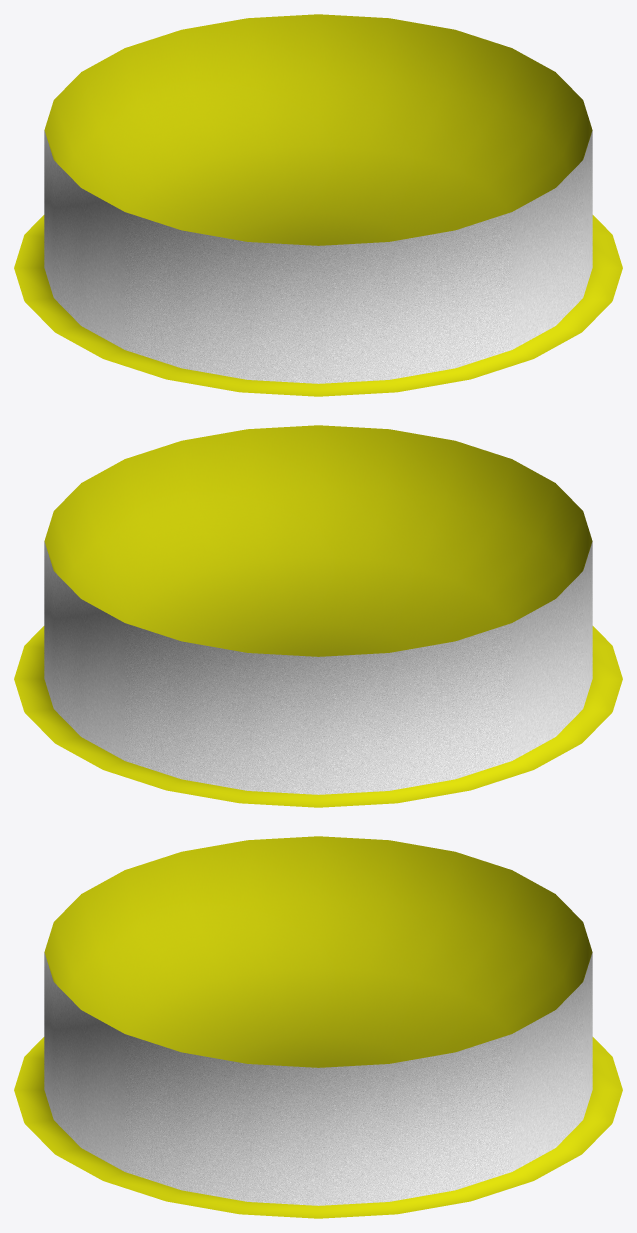
File: S1EndCap.obj
The picture shows the model from 3 angles, top to bottom: view 1: azimuth 30°, elevation 25°; view 2: azimuth 150°, elevation 25°; view 3: azimuth 270°, elevation 25°; orthographic projection.
Visible parts, largest first — view 1: S1EndCap; view 2: S1EndCap; view 3: S1EndCap.
Boxes of the visible parts, x1=… form: S1EndCap: x1=14, y1=14, x2=622, y2=396; S1EndCap: x1=14, y1=425, x2=622, y2=807; S1EndCap: x1=14, y1=836, x2=622, y2=1218.
Size of the model in its own units: 1.25 by 0.3125 by 1.25.
1 material, 1 textured.
